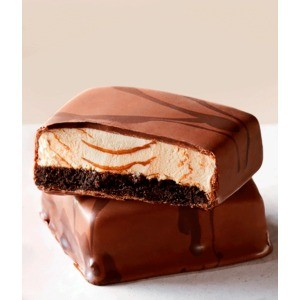peanut butter_brain food: (37, 93, 254, 262)
